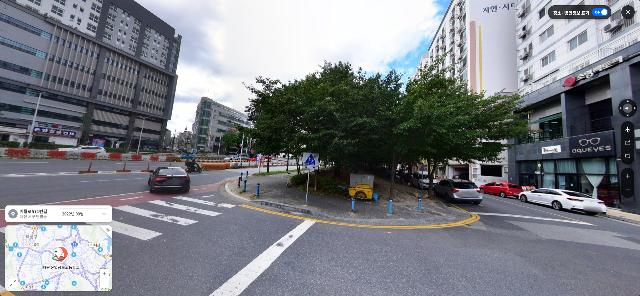other: (380, 52, 537, 200), (236, 60, 369, 187), (292, 68, 408, 193), (238, 120, 281, 171), (220, 129, 242, 156)
